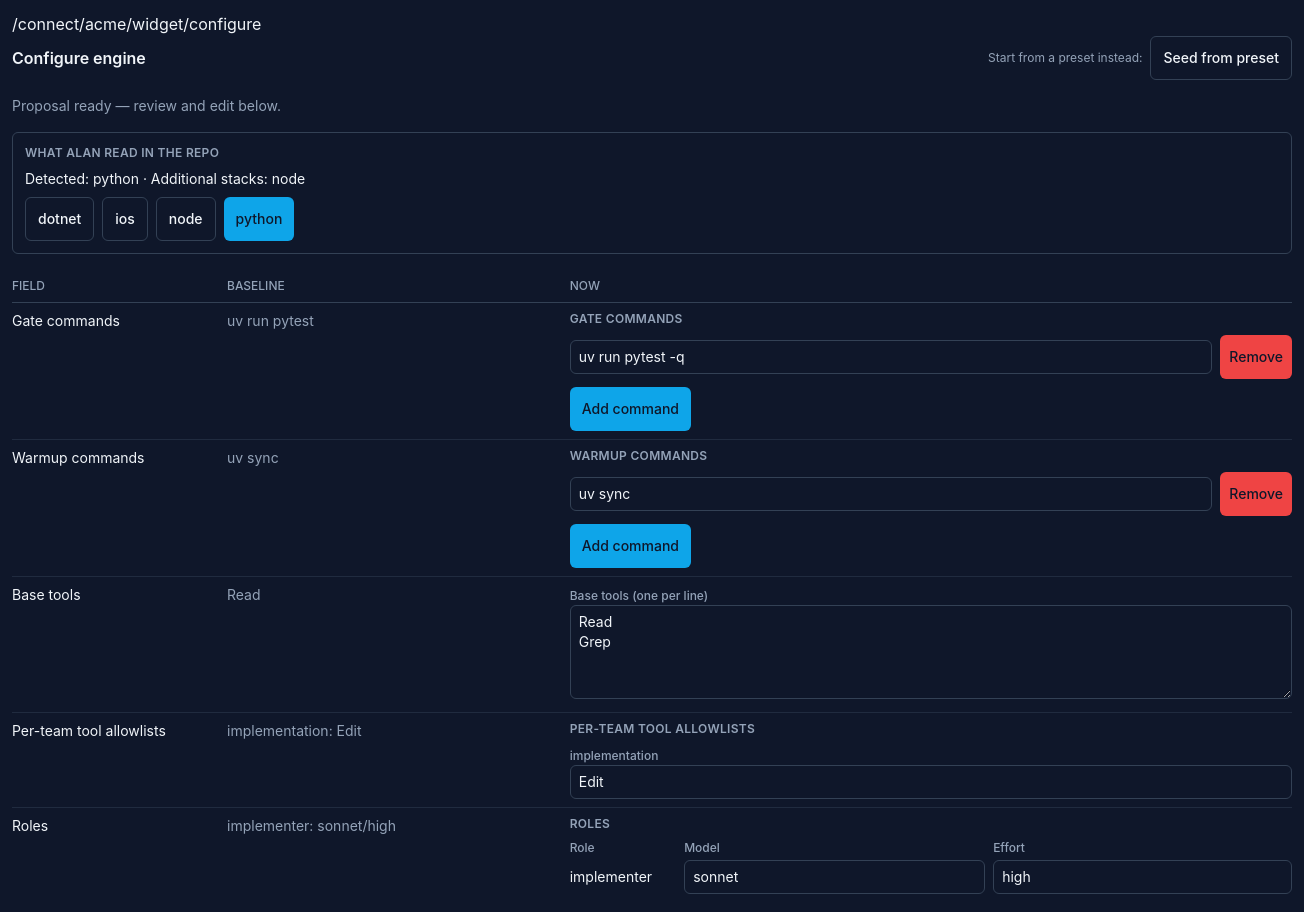
Test: ConnectStep2Configure › a repropose that 422s with a finding degrades to the fallback panel, discarding the diff table
What coordinates should you click on to do the following:
click the button with test id "step2-preset-node"
I would click on:
 (186, 219)
Its box is [156,197,216,241].
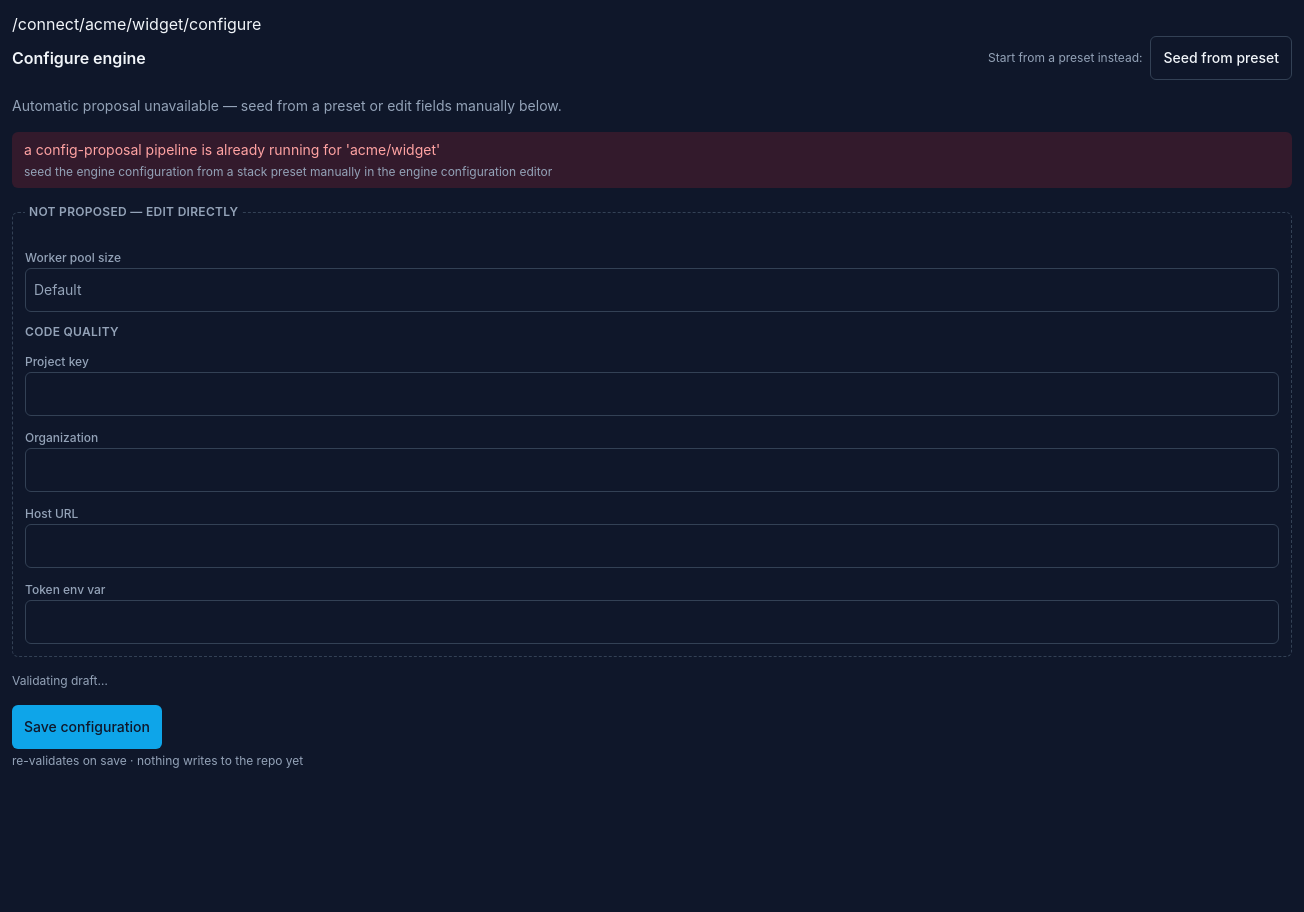
Result: the element with test id "step2-fallback" is shown at [12,132,1292,188]
